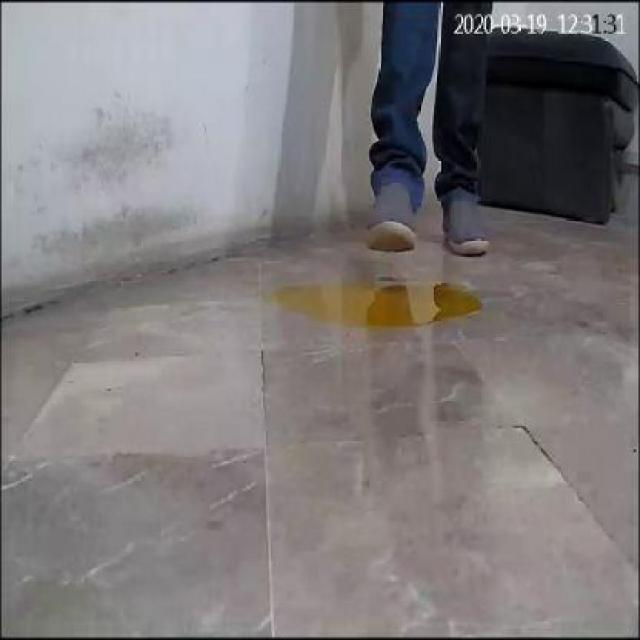spill: (268, 274, 480, 340)
